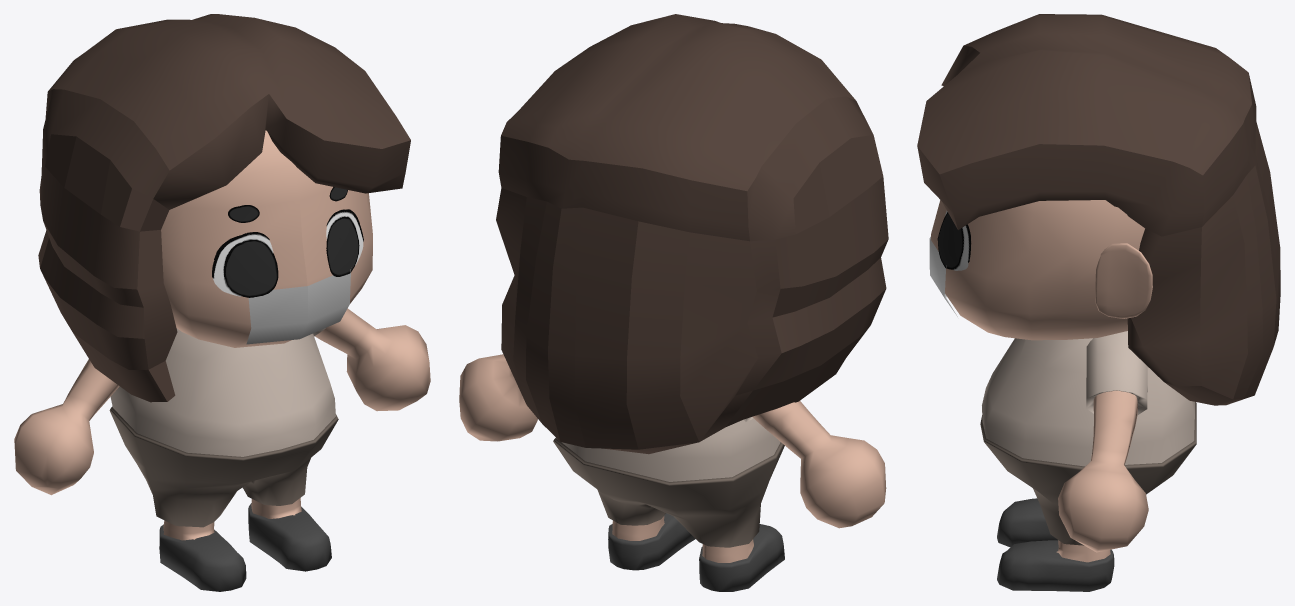
The model's file is Normal_lady V2.fbx.
3 views of the same model, side by side, from view 1: azimuth 30°, elevation 25°; view 2: azimuth 150°, elevation 25°; view 3: azimuth 270°, elevation 25° (orthographic). The views are drawn at different scales.
Visible parts, largest first — view 1: Hair_v2_1, polySurface4, shirt_n_pants2, eyes, mouth, pCube49, pCube50; view 2: Hair_v2_1, shirt_n_pants2, polySurface4, pCube49, pCube50; view 3: Hair_v2_1, polySurface4, shirt_n_pants2, pCube50, pCylinder11, pCube49, eyes, mouth.
Part boxes in pixels (x1,y1,x2,y2): Hair_v2_1: (38,14,410,402); polySurface4: (14,130,430,540); shirt_n_pants2: (109,328,338,527); eyes: (212,187,363,297); mouth: (246,269,350,344); pCube49: (159,524,246,591); pCube50: (248,503,331,571); Hair_v2_1: (496,14,888,454); shirt_n_pants2: (553,418,784,547); polySurface4: (459,354,886,562); pCube49: (699,524,784,591); pCube50: (608,513,695,570); Hair_v2_1: (917,14,1280,405); polySurface4: (931,200,1152,562); shirt_n_pants2: (980,338,1196,545); pCube50: (997,540,1114,591); pCylinder11: (1086,331,1147,415); pCube49: (997,498,1057,547); eyes: (937,210,971,270); mouth: (929,236,957,316).
Bounding box in the file's own units: 5.07 × 6.1 × 3.84.
